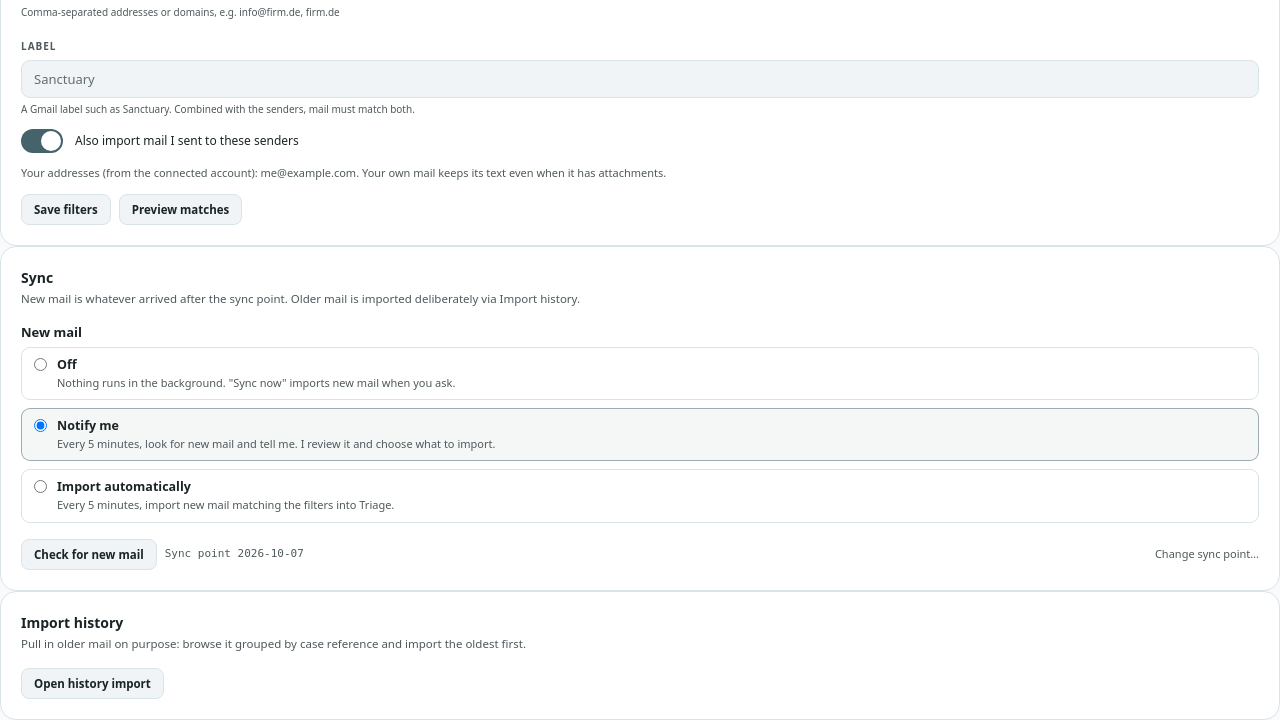
Test: gmail: in notify mode the button checks for mail instead of importing it
(page scrolled)
Click the button "Check for new mail" at coordinates (89, 554), box x1=21 y1=538 x2=157 y2=570
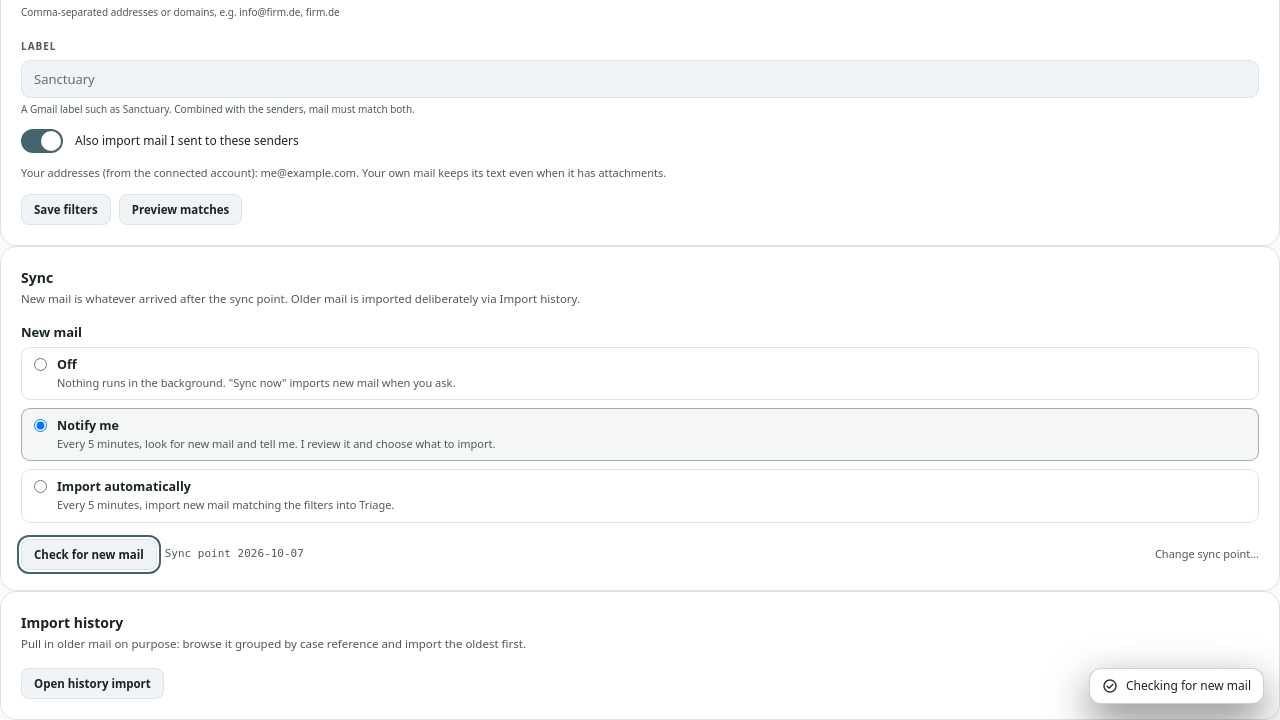
Result: the message reads "Checking for new mail" at x1=1126 y1=677 x2=1251 y2=694
